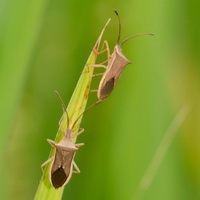insect: (34, 11, 153, 199), (89, 10, 153, 103), (41, 91, 87, 188), (41, 91, 83, 188)
